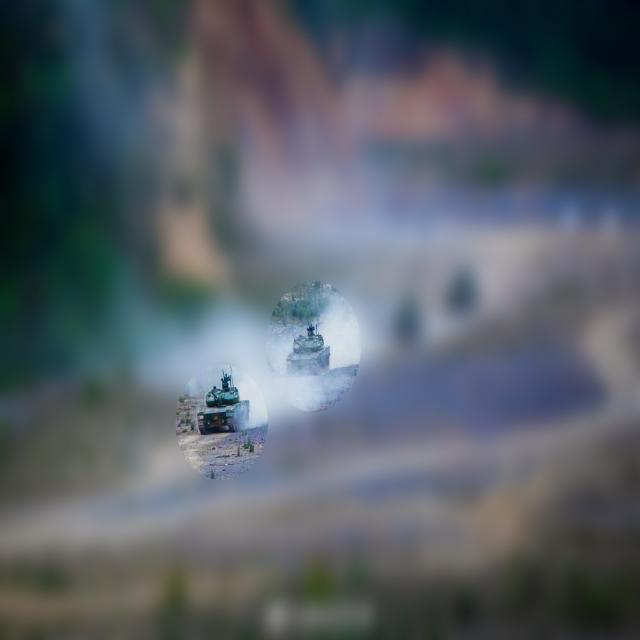tank: (196, 365, 253, 439), (284, 323, 334, 382)
